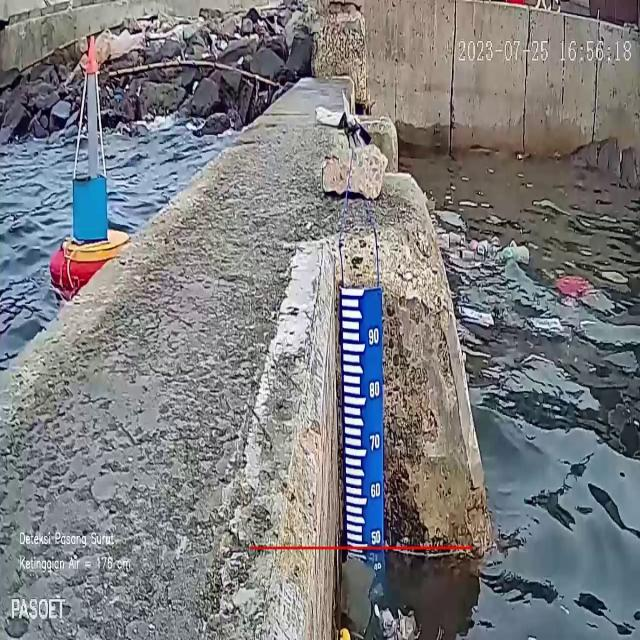50: (371, 528, 382, 546)
60: (370, 481, 381, 500)
70: (369, 433, 381, 452)
80: (369, 380, 379, 398)
90: (368, 327, 380, 345)
staff: (341, 286, 384, 548)
